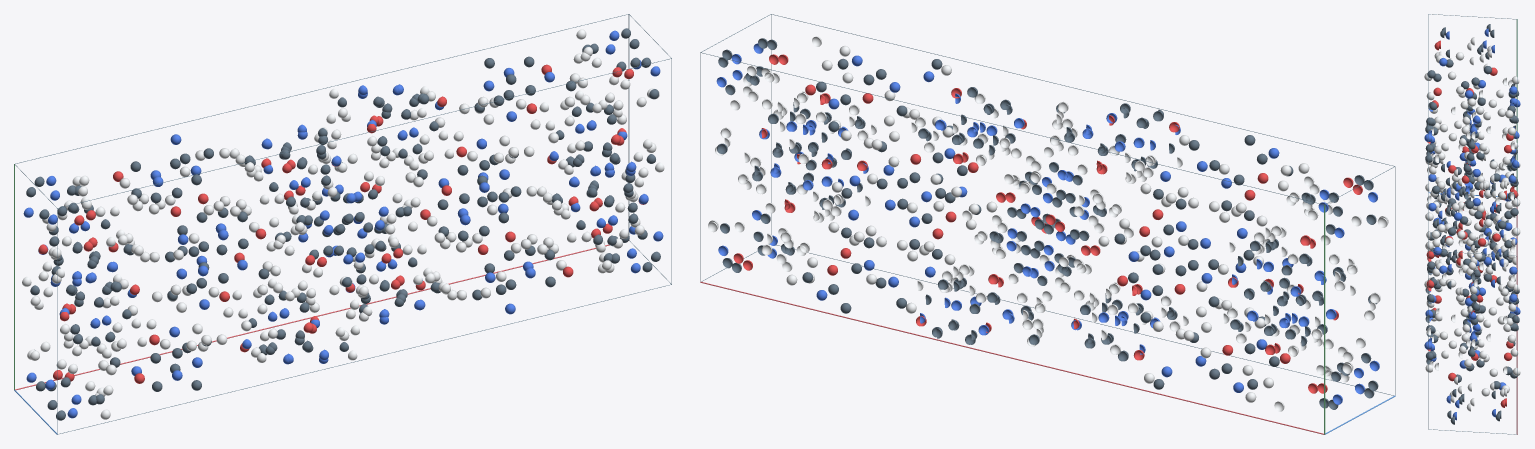
Rendered from cod-4504310.glb.
3 renders of one model, left to right at view 1: azimuth 30°, elevation 25°; view 2: azimuth 150°, elevation 25°; view 3: azimuth 270°, elevation 25°, orthographic. The views are drawn at different scales.
Visible parts, largest first — view 1: Ô mạng và các trục a, b, c; view 2: Ô mạng và các trục a, b, c; view 3: Ô mạng và các trục a, b, c.
Boxes of the visible parts, <box> form: Ô mạng và các trục a, b, c: <box>14,14,671,434</box>; Ô mạng và các trục a, b, c: <box>700,14,1395,434</box>; Ô mạng và các trục a, b, c: <box>1428,14,1517,434</box>.
Bounding box in the file's own units: 43.51 × 15.08 × 7.3.
